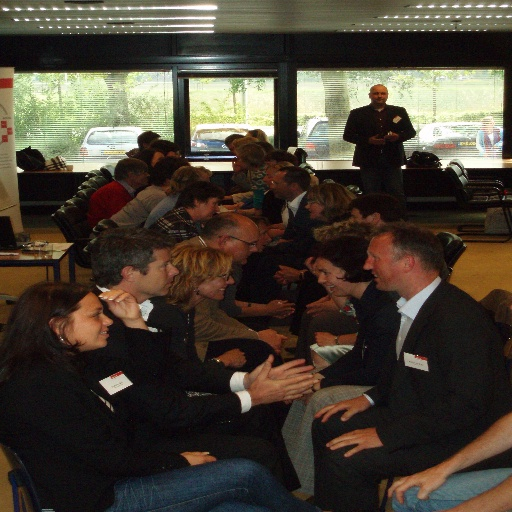hand: (385, 463, 447, 502), (248, 354, 314, 382), (312, 392, 371, 421), (325, 428, 384, 457), (98, 288, 140, 322), (287, 376, 315, 404), (218, 348, 247, 368), (309, 299, 340, 317), (263, 298, 295, 314), (271, 298, 295, 319), (276, 265, 302, 283), (182, 454, 216, 466), (307, 294, 330, 310), (257, 329, 278, 345), (315, 331, 334, 345), (275, 267, 287, 285), (368, 133, 384, 146), (278, 331, 287, 351), (231, 156, 241, 172), (223, 200, 242, 208), (231, 206, 247, 215), (266, 227, 279, 238), (387, 132, 398, 144), (182, 449, 211, 453), (490, 142, 499, 150), (481, 150, 488, 158)
